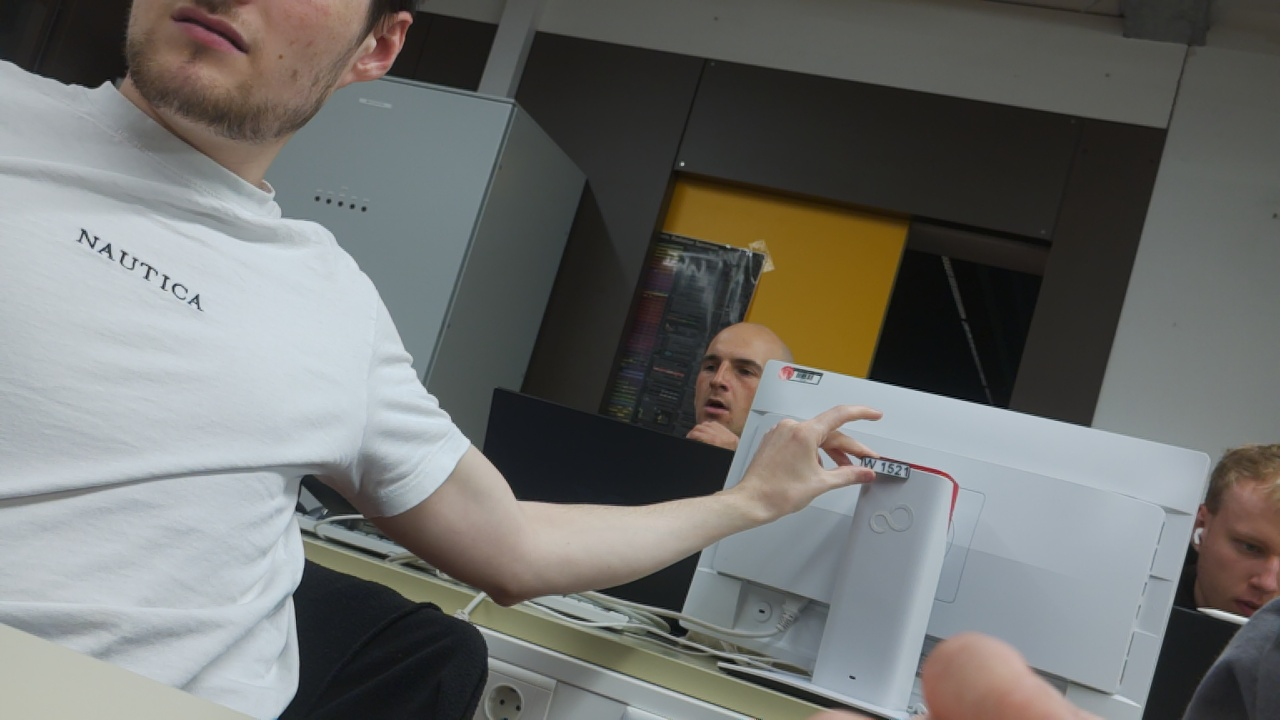license_plate: (859, 455, 911, 481)
